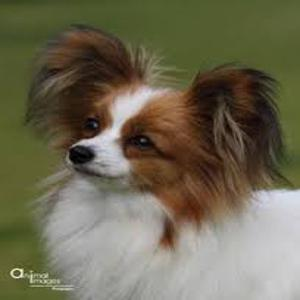yell: (23, 23, 300, 299)
